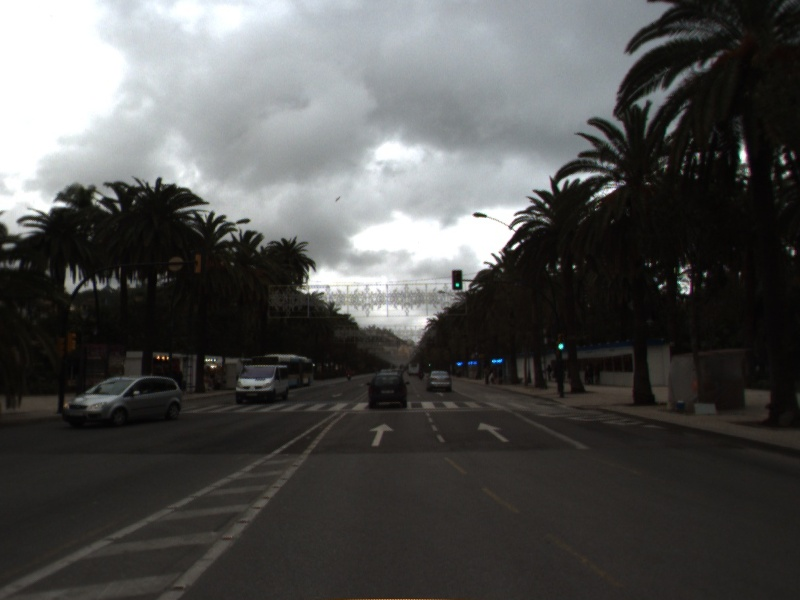STRAIGHT: (475, 420, 512, 444), (366, 421, 397, 448)
